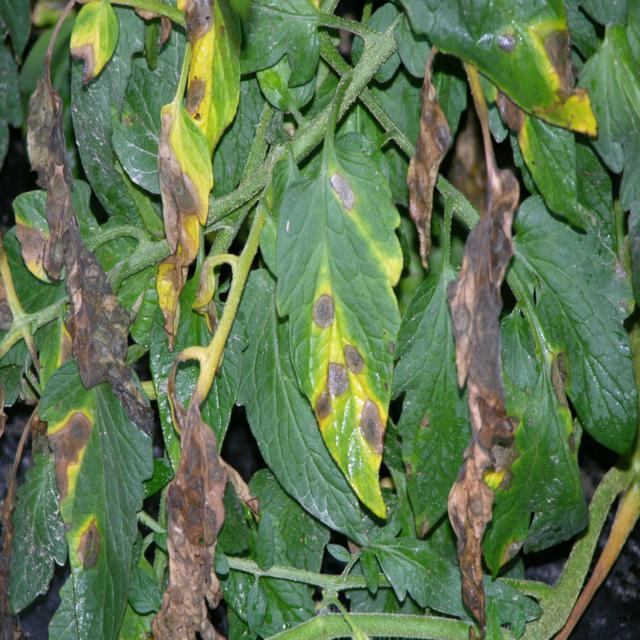Early_blight: (25, 58, 152, 438), (444, 169, 519, 640), (150, 392, 258, 640), (154, 105, 202, 352), (411, 46, 450, 272), (529, 17, 597, 136), (30, 411, 98, 503), (306, 337, 369, 428), (195, 260, 229, 336), (351, 393, 389, 457), (68, 513, 105, 573), (175, 1, 218, 46), (132, 3, 172, 50), (70, 30, 103, 85), (493, 85, 527, 136), (11, 221, 44, 270), (305, 287, 339, 329), (325, 166, 357, 210), (181, 74, 210, 121)
